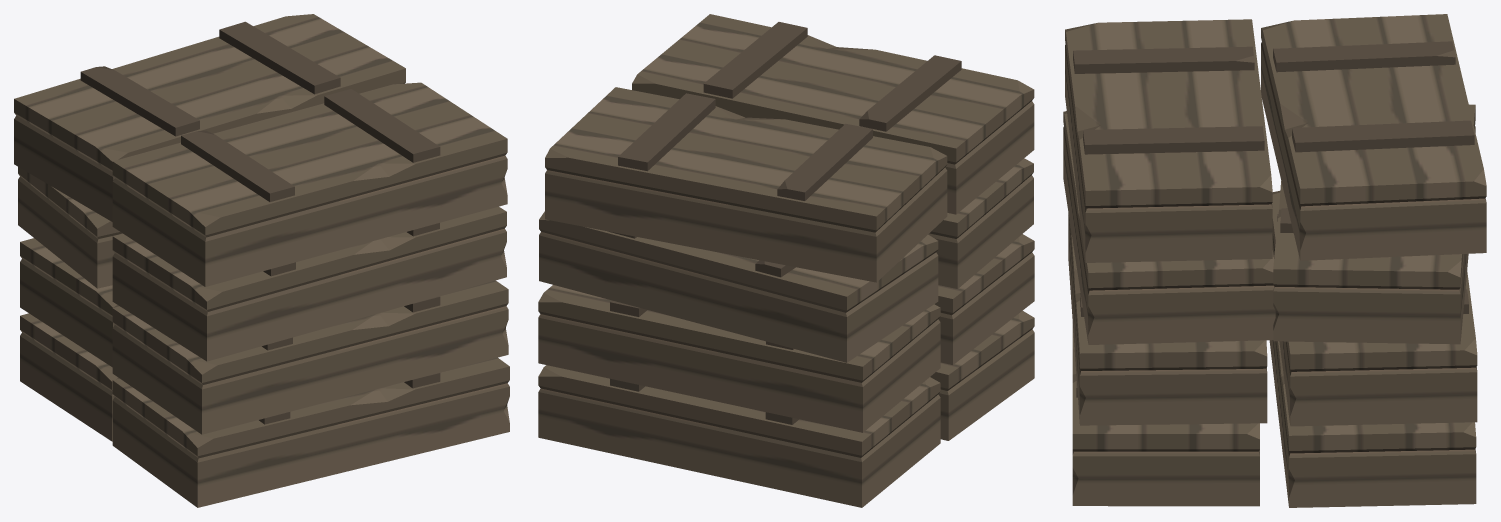
The model's file is SM_Prop_Crate_Stack_03.glb.
The picture shows the model from 3 angles, left to right: view 1: azimuth 30°, elevation 25°; view 2: azimuth 150°, elevation 25°; view 3: azimuth 270°, elevation 25°; orthographic projection. The views are drawn at different scales.
Visible parts, largest first — view 1: SM_Prop_Crate_Stack_03; view 2: SM_Prop_Crate_Stack_03; view 3: SM_Prop_Crate_Stack_03.
Part boxes in pixels (<box>): SM_Prop_Crate_Stack_03: <box>14,14,509,507</box>; SM_Prop_Crate_Stack_03: <box>538,14,1034,507</box>; SM_Prop_Crate_Stack_03: <box>1063,14,1486,507</box>.
Bounding box in the file's own units: 1.62 × 1.39 × 1.64.
1 material, 1 textured.
